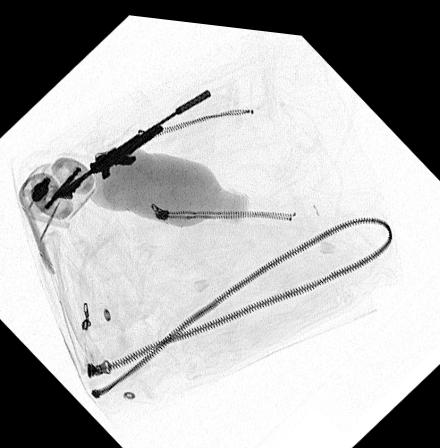Gun: (55, 79, 215, 196)
